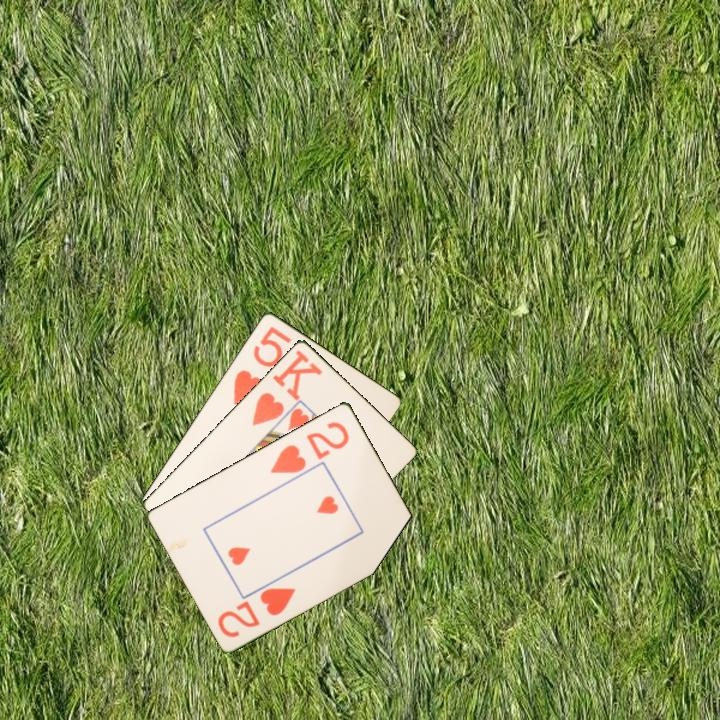2h: (267, 418, 352, 476), (214, 584, 299, 640)
5h: (230, 322, 295, 408)
Kh: (248, 346, 325, 428)
